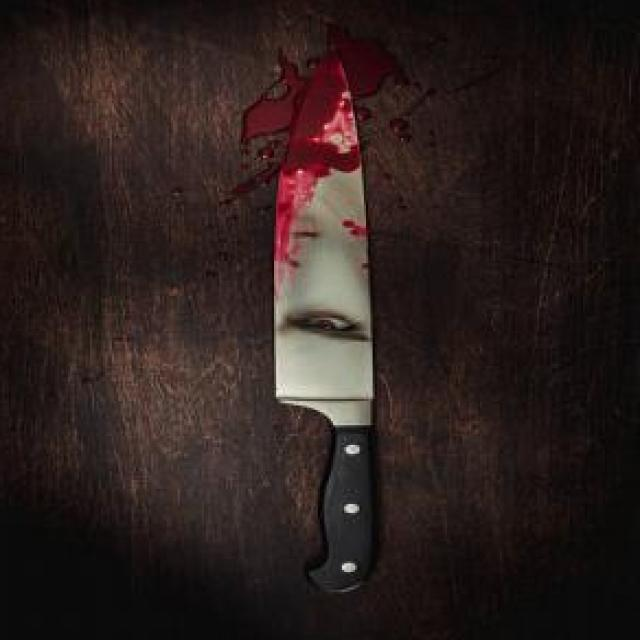knife: (265, 52, 379, 596)
